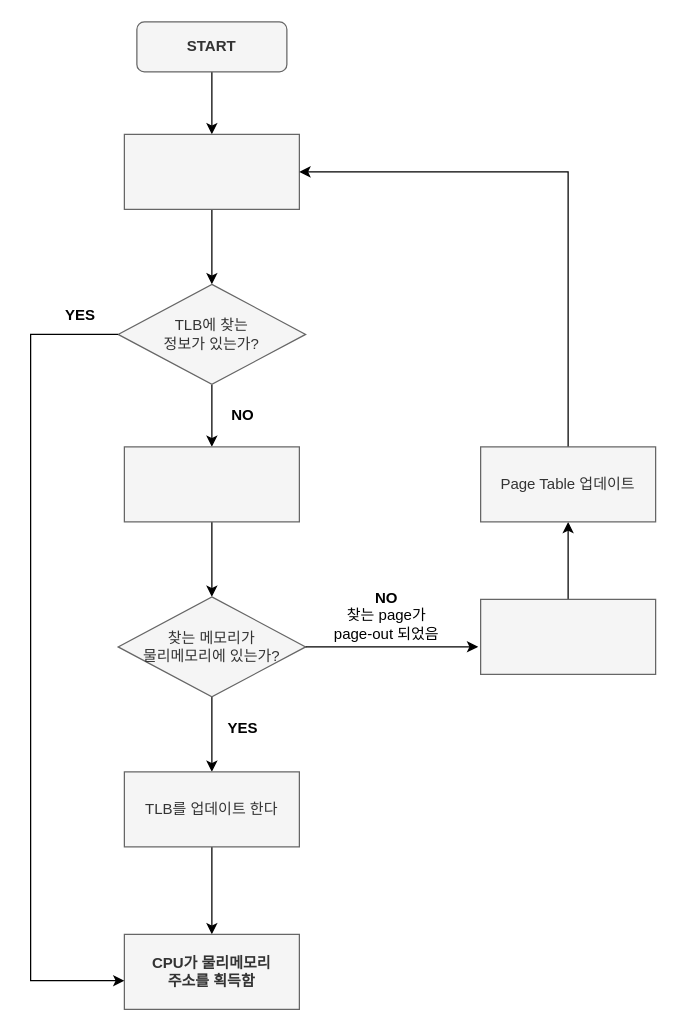
Some shapes in this 678 by 1031 pixel diagram are drawn without their labels. The shapes that lost their labels are listed below. From the top down, each one's centre as x and y in pixels, then its label:
At point (211, 171): "CPU가 TLB에 메모리주소 변환 요청함".
At point (211, 484): "Page Table에서 찾음".
At point (567, 636): "OS가 메모리 page를 디스크에서 가져옴".
